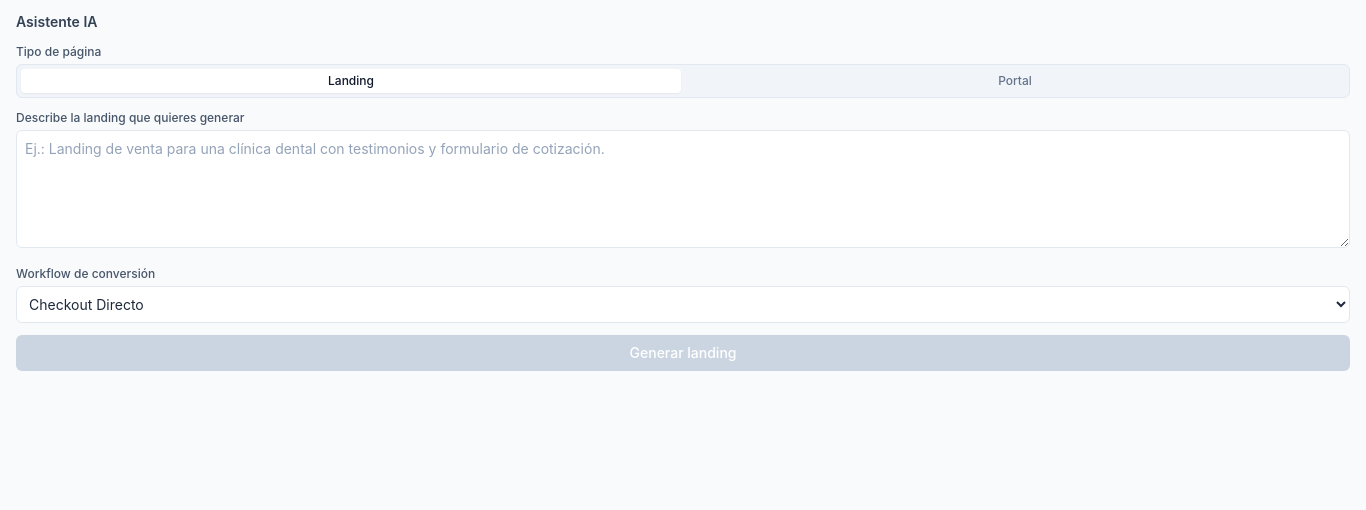
Test: AIPanel › aplica el resultado generado a la landing del editor
In the text box labelled "Describe la landing que quieres generar": (683, 189) [16, 130, 1350, 248], type "Genera una landing"
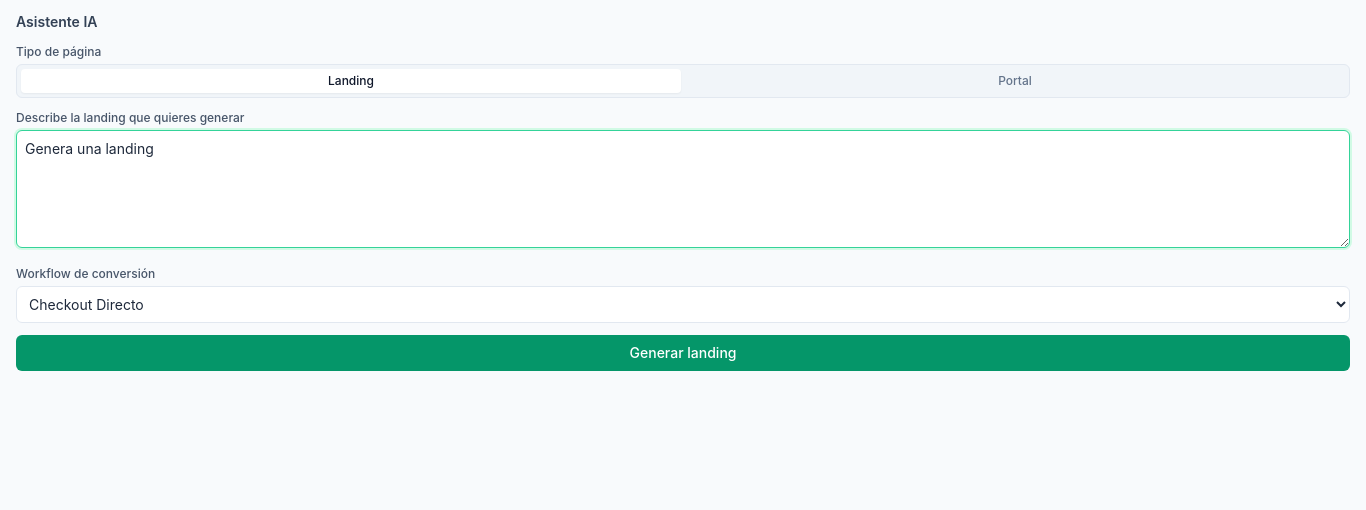
Click the button "Generar landing": click(683, 353) [16, 335, 1350, 371]
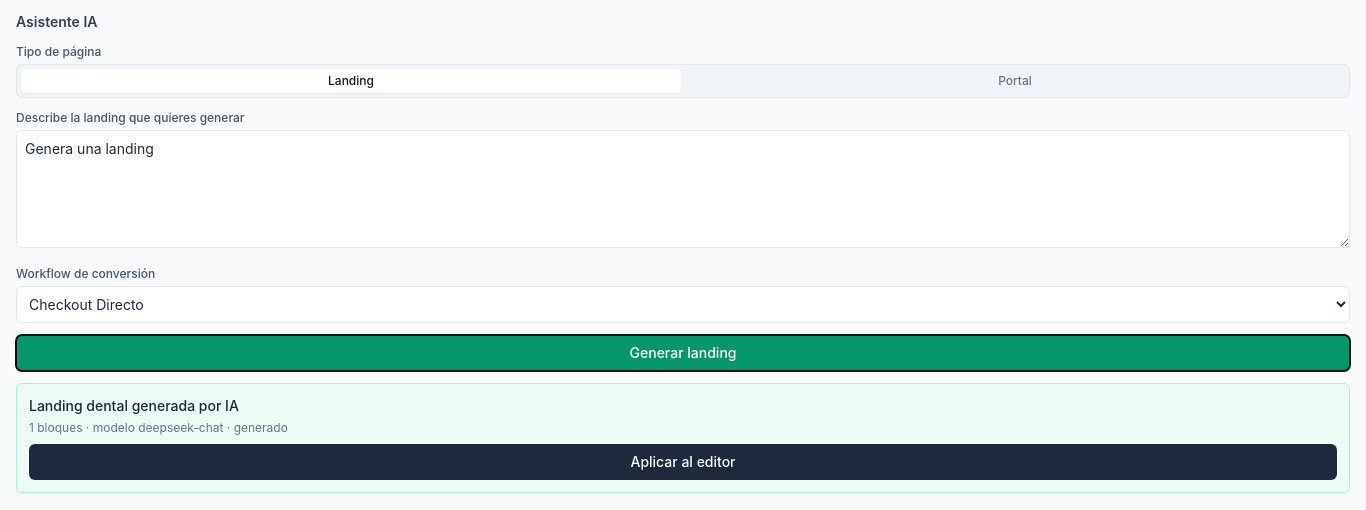
Click the button "Aplicar al editor": click(683, 462) [29, 444, 1337, 480]
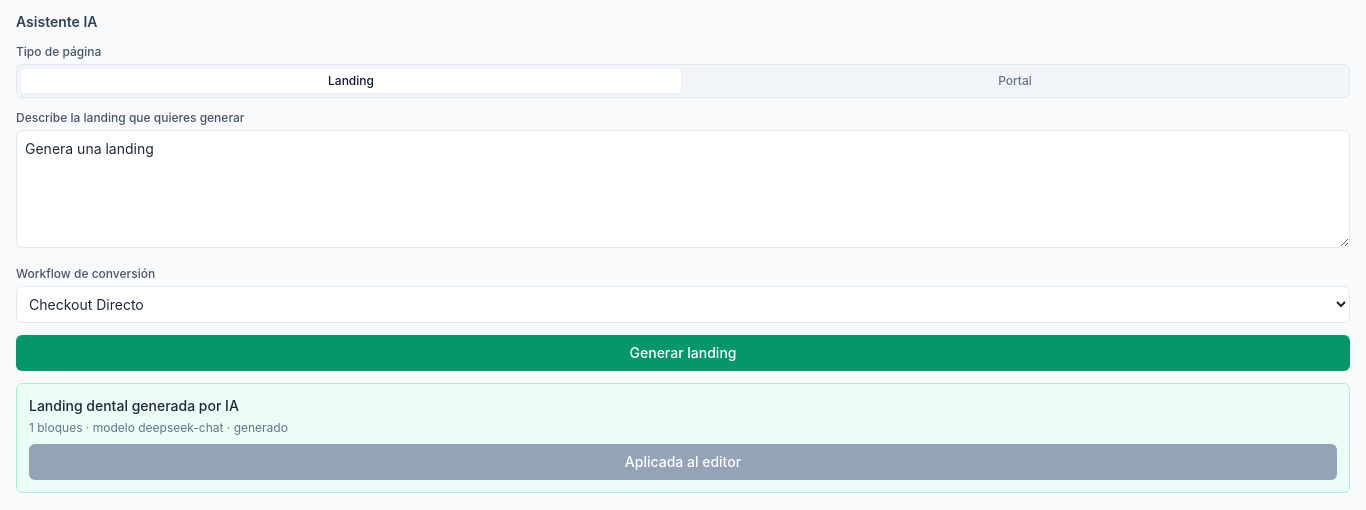
Result: the button "Aplicada al editor" is disabled at [29, 444, 1337, 480]
